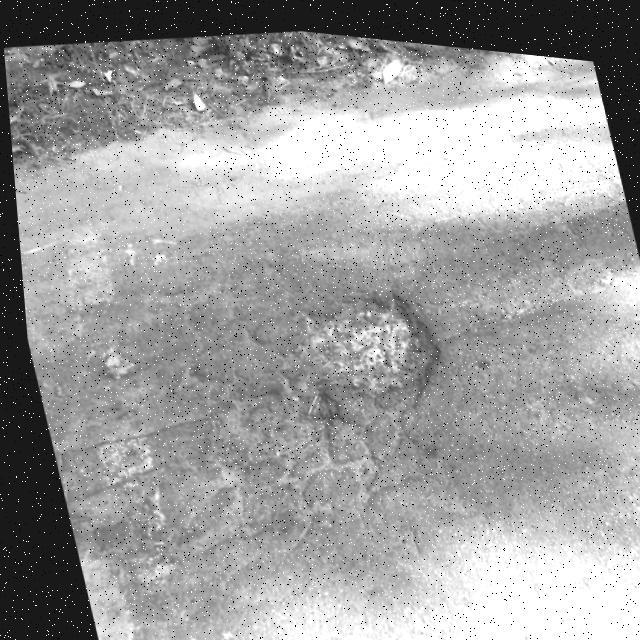pothole: (178, 350, 378, 516), (280, 268, 450, 414)
